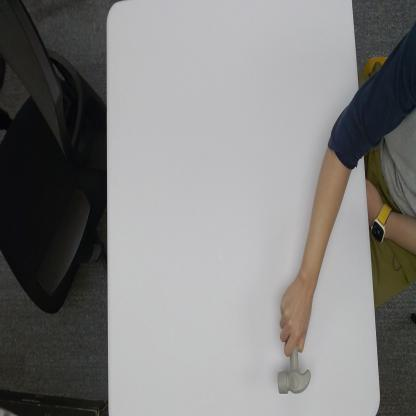Arm: (304, 92, 361, 302)
Hammer: (277, 346, 311, 398)
Hand: (280, 277, 310, 356)
